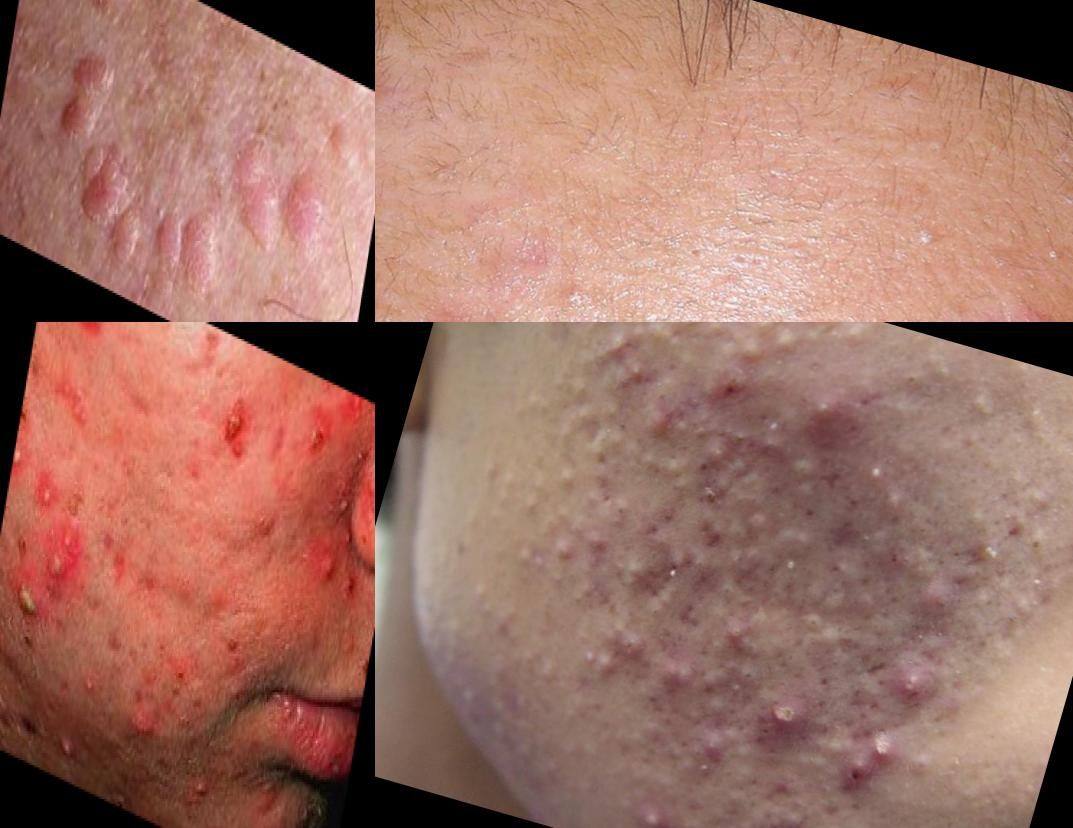papular: (522, 512, 614, 614), (206, 381, 262, 485), (584, 325, 650, 404), (818, 508, 889, 571), (298, 518, 344, 607), (121, 693, 167, 776), (50, 323, 106, 391), (640, 648, 701, 704), (702, 361, 761, 418), (679, 714, 733, 774), (184, 756, 220, 828), (913, 577, 952, 628), (1003, 297, 1073, 323)
purulent: (800, 383, 865, 449), (42, 708, 91, 781), (754, 688, 816, 745), (6, 560, 46, 643), (887, 663, 932, 708), (31, 460, 58, 523), (76, 659, 105, 708), (626, 800, 673, 828), (863, 734, 893, 773)
sebo-crystan-conglo: (42, 500, 81, 611), (630, 589, 674, 630), (603, 492, 639, 540)
syringoma: (45, 37, 172, 282), (221, 99, 348, 288), (146, 171, 232, 317)
whitehead: (880, 193, 960, 269), (617, 435, 706, 501), (724, 323, 814, 383), (887, 334, 956, 409), (887, 744, 951, 824), (419, 592, 481, 665), (471, 454, 526, 531), (905, 118, 962, 178), (568, 636, 628, 691), (767, 441, 828, 495), (456, 572, 512, 630), (841, 451, 900, 505), (1022, 216, 1073, 270), (506, 381, 556, 436), (950, 490, 999, 539), (770, 520, 819, 568), (960, 373, 1000, 430), (633, 323, 699, 354), (642, 371, 687, 416), (794, 598, 835, 647), (725, 654, 772, 694), (1045, 130, 1073, 197), (760, 795, 815, 828), (951, 599, 988, 644), (552, 453, 588, 498), (709, 573, 750, 612), (1014, 526, 1046, 567), (686, 410, 714, 453), (1007, 586, 1043, 617), (1057, 525, 1073, 578)
